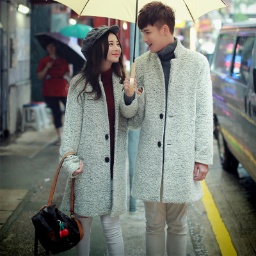face: (138, 2, 178, 53), (83, 27, 125, 74)
